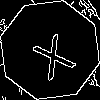X: (25, 25, 77, 81)
